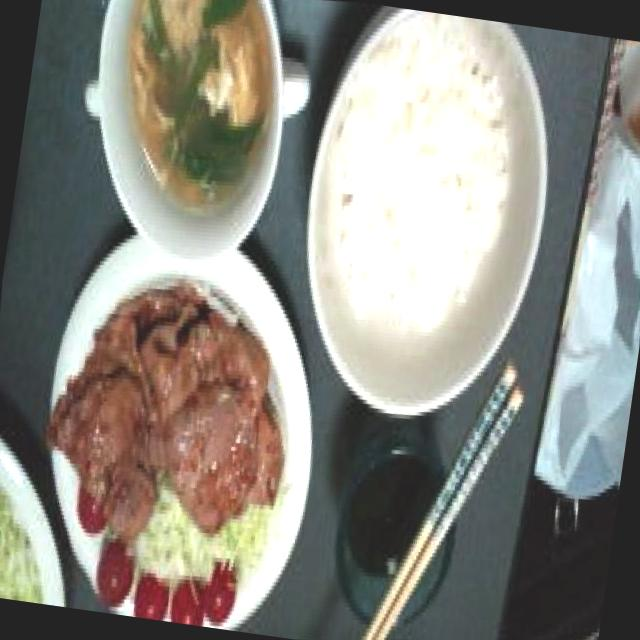Rice: (301, 9, 540, 354)
